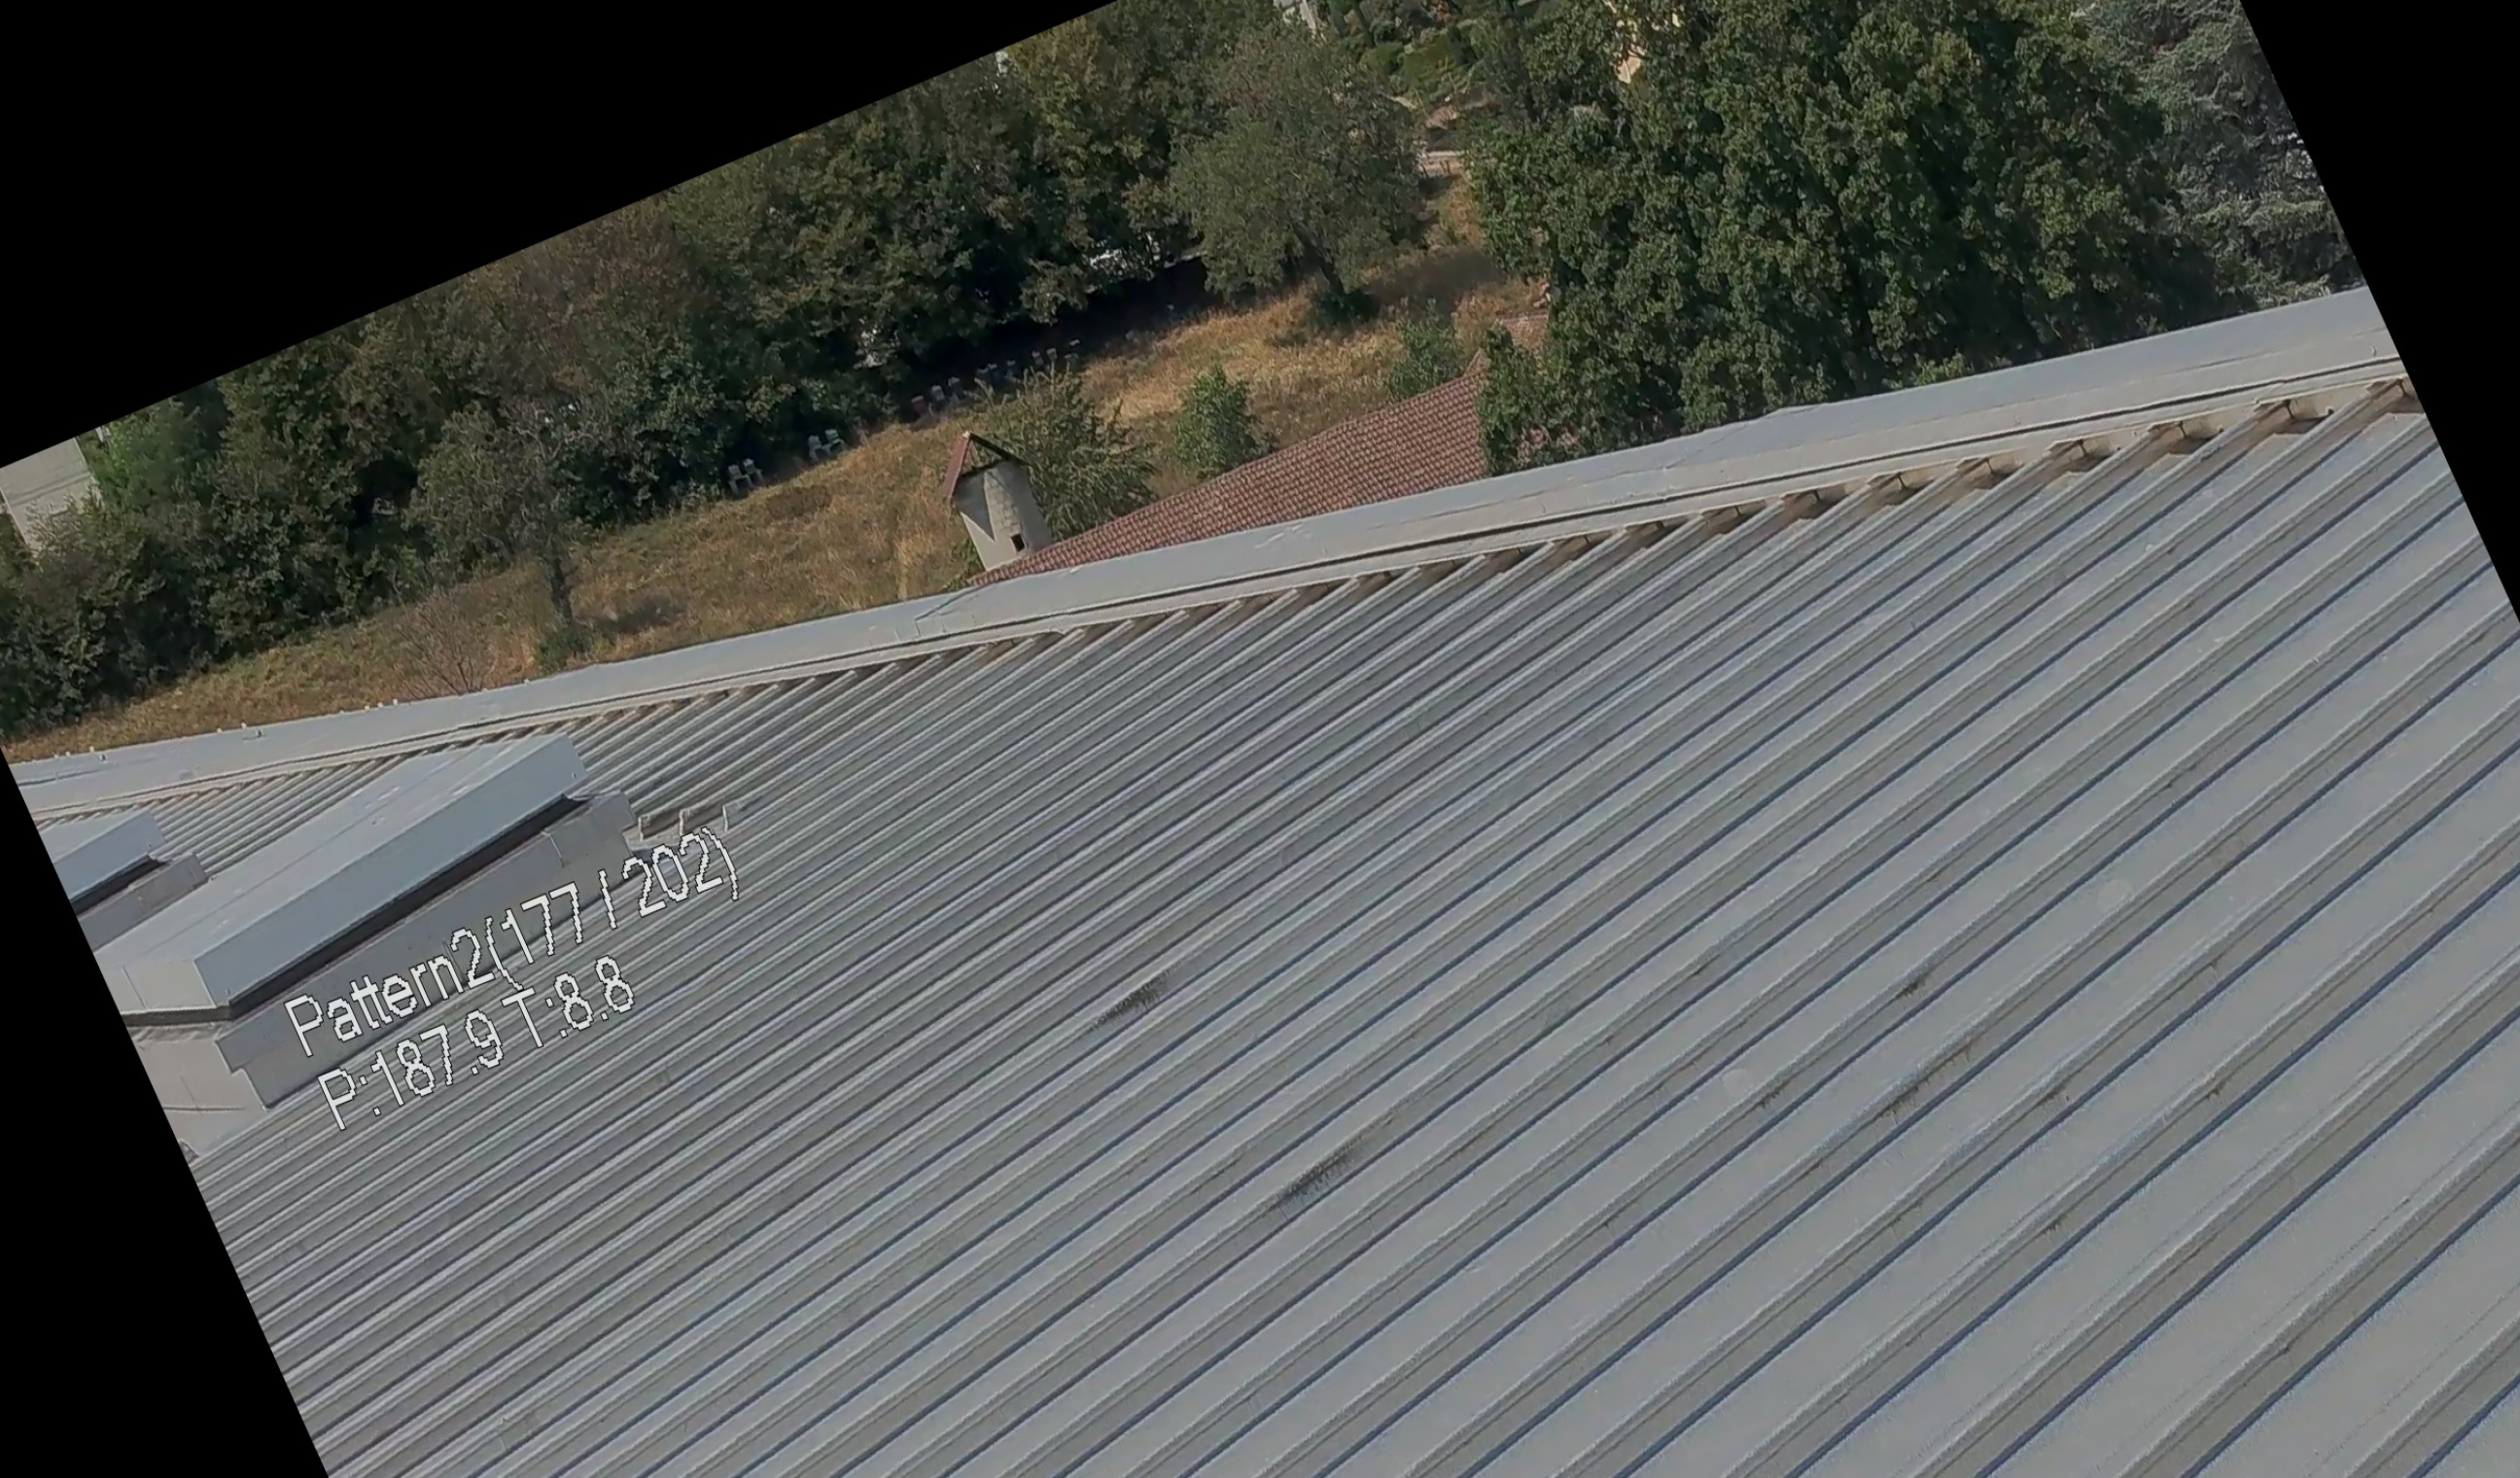Other: (911, 405, 1076, 591)
